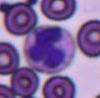N: (24, 26, 74, 74)
